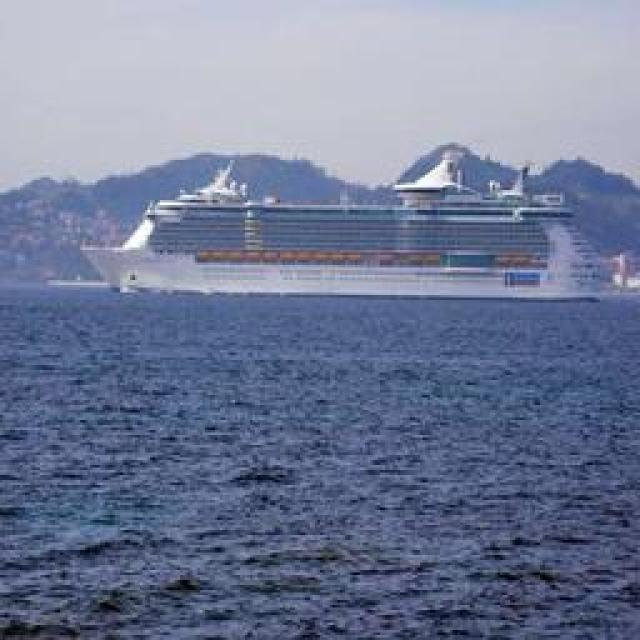CIV_Ship: (86, 170, 606, 302)
